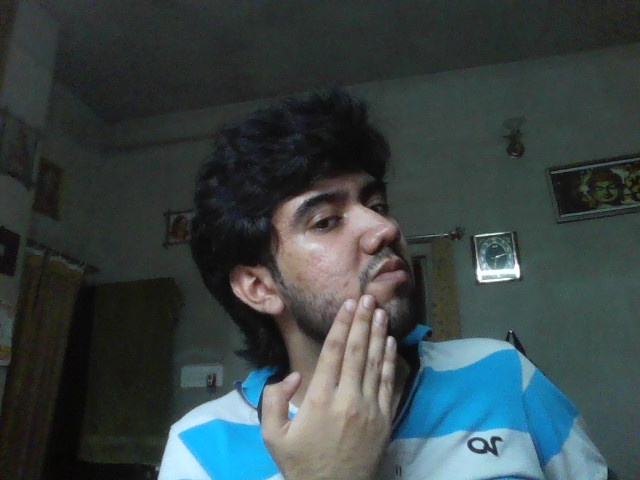ThankYou: (261, 293, 396, 480)
